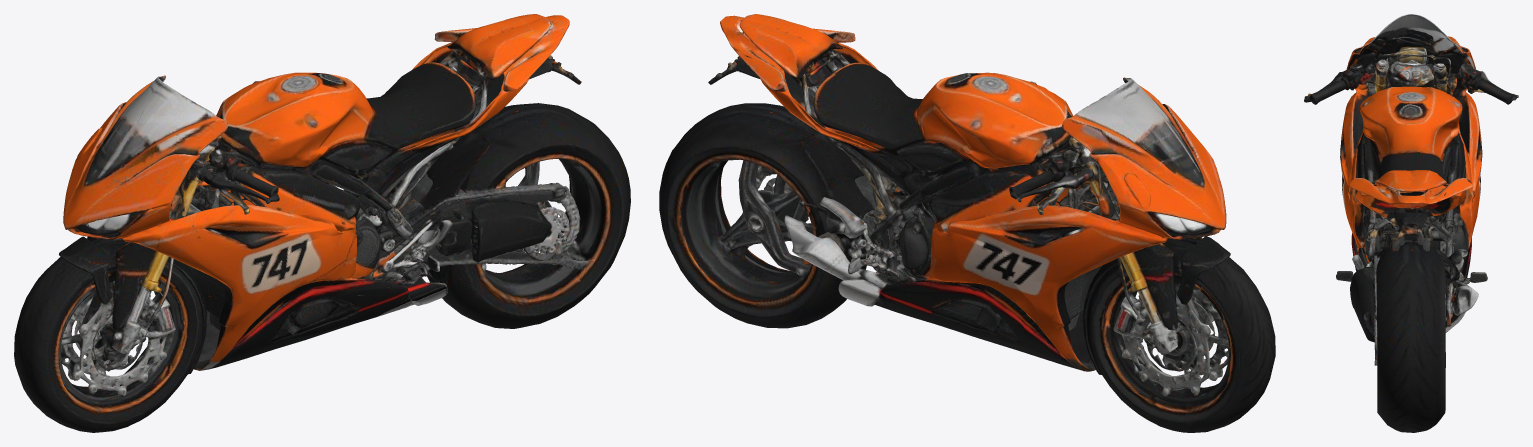
Rendered from Meshy_AI_Italian_Overtaking_Unit_V4_20261118_texture_181648tris.glb.
The picture shows the model from 3 angles, left to right: view 1: azimuth 30°, elevation 25°; view 2: azimuth 150°, elevation 25°; view 3: azimuth 270°, elevation 25°; orthographic projection. The views are drawn at different scales.
Parts seen in each view (by area): view 1: Mesh_0; view 2: Mesh_0; view 3: Mesh_0.
Part boxes in pixels (x1=…): Mesh_0: x1=14, y1=14, x2=630, y2=432; Mesh_0: x1=659, y1=14, x2=1275, y2=432; Mesh_0: x1=1304, y1=14, x2=1518, y2=432.
Size of the model in its own units: 190 by 98.8 by 71.59.
1 material, 1 textured.
